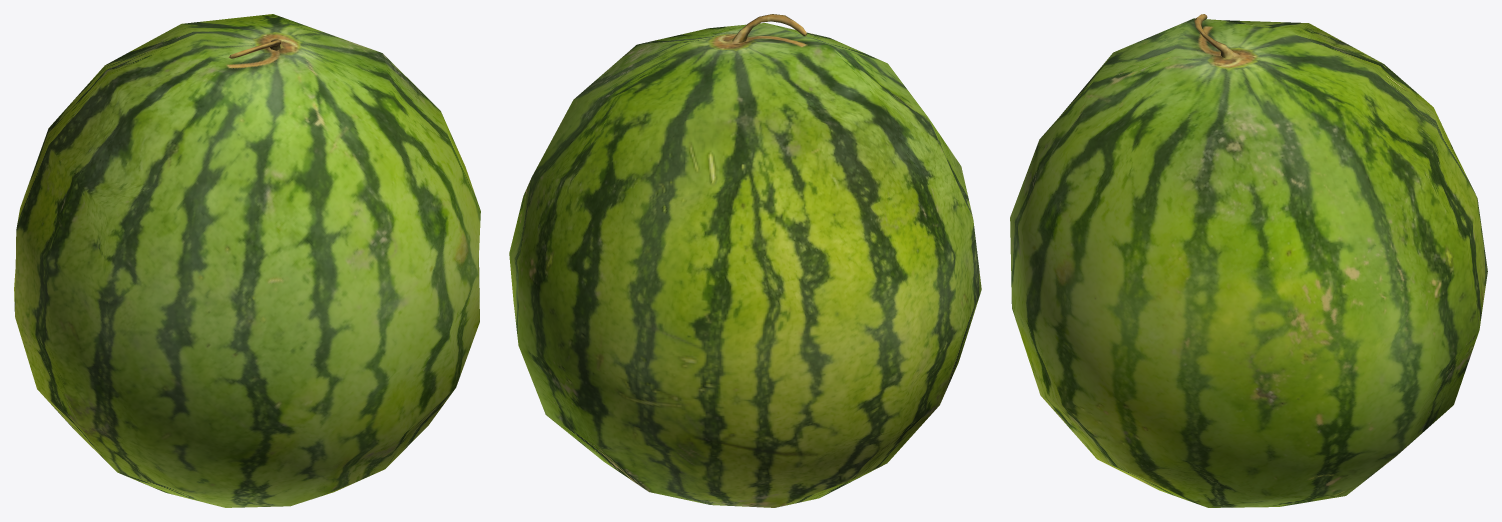
The model's file is Prop_Vegetables_Watermelon.fbx.
3 views of the same model, side by side, from view 1: azimuth 30°, elevation 25°; view 2: azimuth 150°, elevation 25°; view 3: azimuth 270°, elevation 25° (orthographic).
Visible parts, largest first — view 1: Prop_Vegetables_Watermelon; view 2: Prop_Vegetables_Watermelon; view 3: Prop_Vegetables_Watermelon.
Part boxes in pixels (x1,y1,x2,y2): Prop_Vegetables_Watermelon: (14,14,480,507); Prop_Vegetables_Watermelon: (509,14,981,507); Prop_Vegetables_Watermelon: (1010,14,1487,507).
Bounding box in the file's own units: 14.13 × 15.42 × 14.51.
